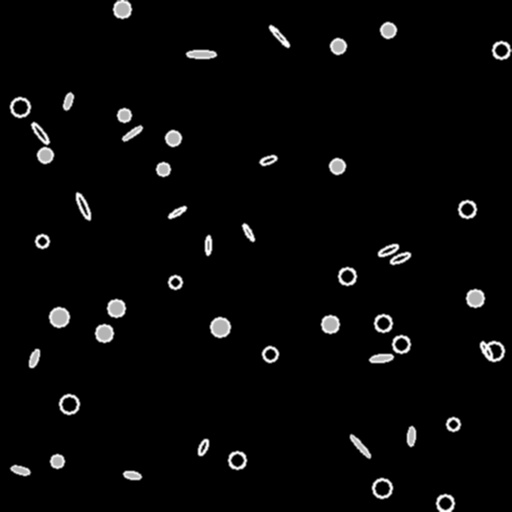pseudomonas: (349, 433, 371, 459), (74, 191, 92, 221), (268, 25, 290, 47), (30, 121, 50, 145), (122, 125, 142, 141), (478, 340, 494, 360), (389, 251, 411, 265), (377, 243, 399, 257), (27, 348, 41, 368), (241, 223, 255, 241), (168, 205, 186, 219), (196, 438, 210, 456), (369, 353, 393, 363), (62, 92, 74, 110), (10, 465, 30, 475), (259, 155, 277, 165), (123, 470, 141, 480), (187, 51, 215, 57), (407, 427, 415, 445), (205, 236, 211, 254)
synechocystis: (50, 308, 68, 326), (211, 318, 229, 336), (11, 98, 29, 116), (485, 342, 503, 360), (60, 395, 78, 413), (373, 479, 391, 497), (375, 315, 391, 331), (322, 316, 338, 332), (459, 201, 475, 217), (339, 268, 355, 284), (493, 42, 509, 58), (108, 300, 124, 316), (393, 336, 409, 352), (229, 452, 245, 468), (467, 290, 483, 306), (114, 1, 130, 17), (96, 325, 112, 341), (437, 495, 453, 511), (166, 131, 180, 145), (331, 39, 345, 53), (38, 148, 52, 162), (330, 159, 344, 173), (381, 23, 395, 37), (263, 347, 277, 361), (118, 109, 130, 121), (157, 163, 169, 175), (51, 455, 63, 467), (447, 418, 459, 430), (169, 276, 181, 288), (36, 235, 48, 247)
